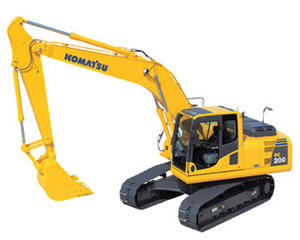backhoe: (5, 14, 293, 231)
